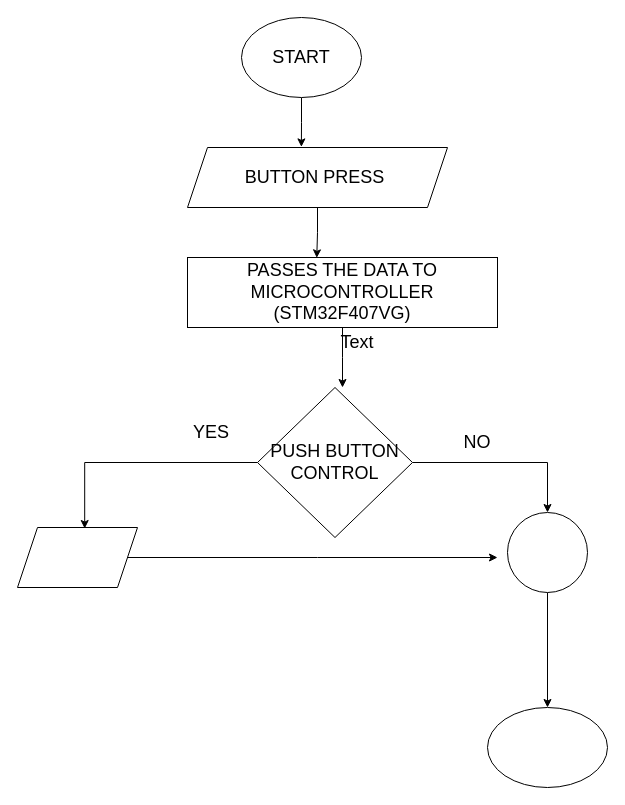
The diagram is 625 pixels wide and 805 high, and some of its shapes have lost their labels. Here are the shapes that lost their labels. From the top down, the centre of each, then its label:
point 77,557: LED ON
point 547,747: END
